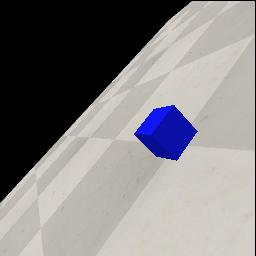box: (134, 105, 198, 162)
